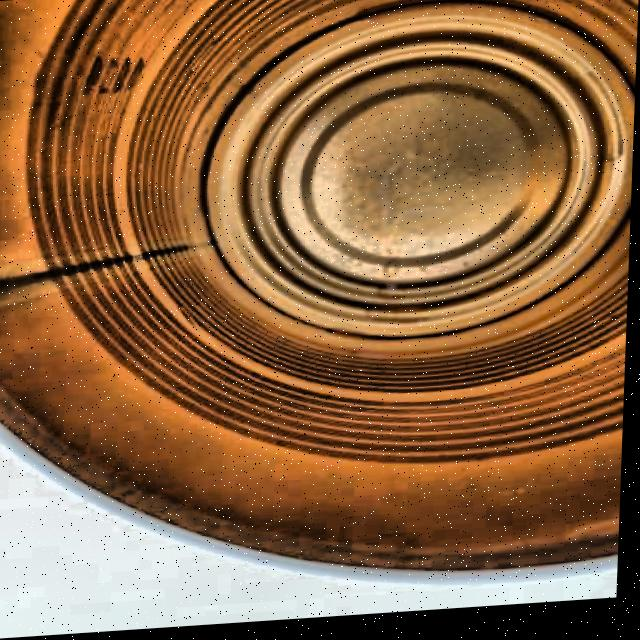metal: (0, 0, 640, 618)
